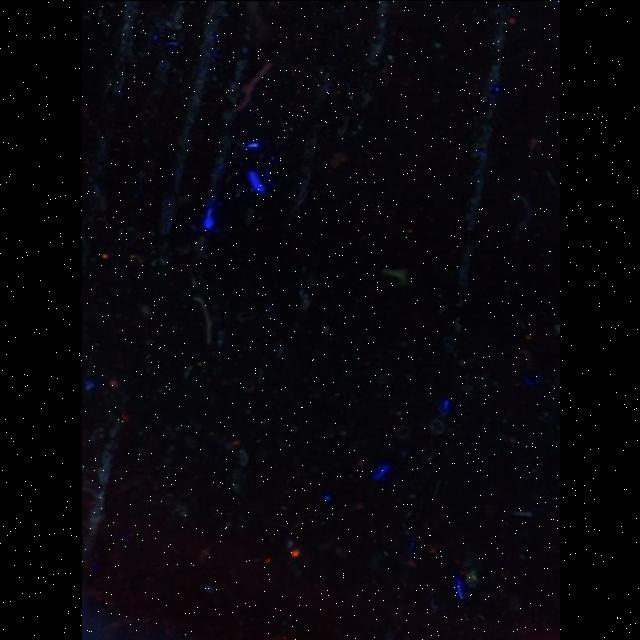Fibre: (380, 266, 407, 285)
